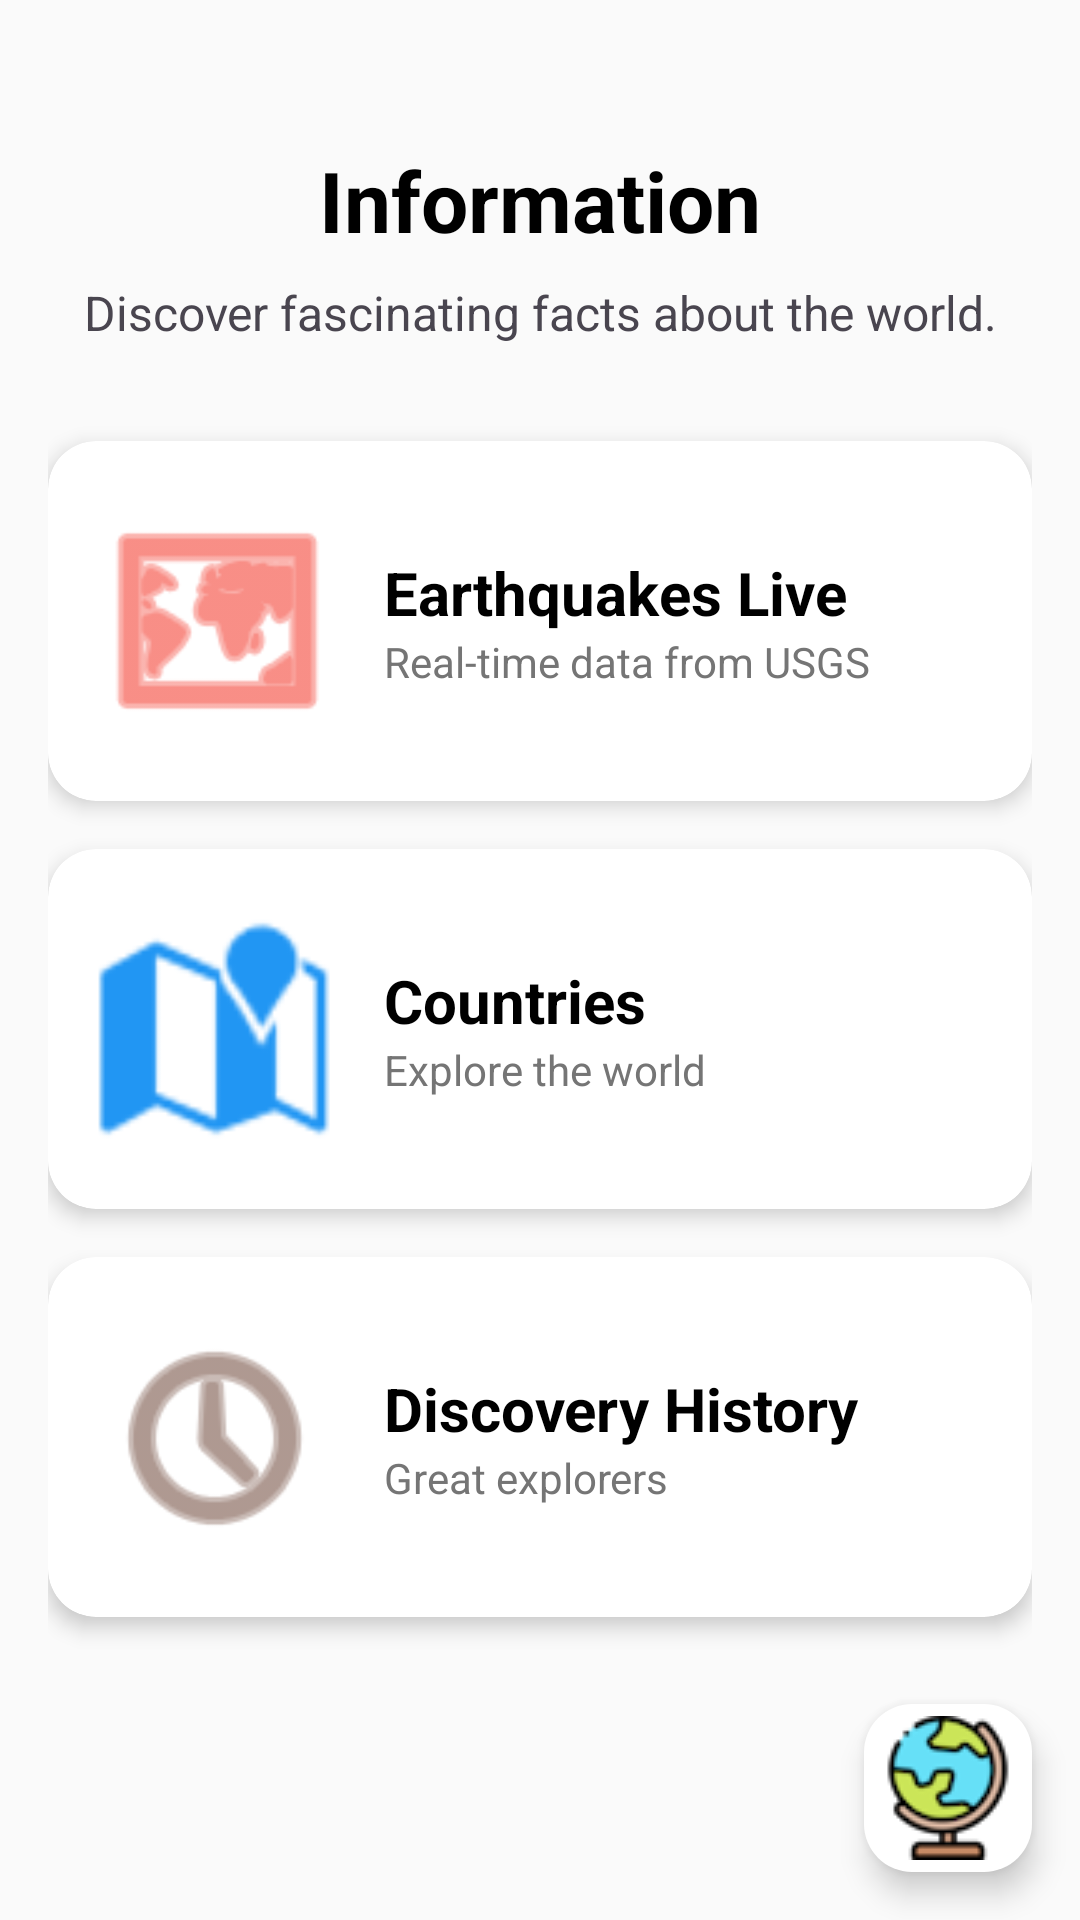

Named icons in this screenshot (1080px×1920px) and their bounding boxes, (x1, y1, x2, y2):
globus: (887, 1716, 1009, 1860)
map: (99, 923, 329, 1135)
mapmode: (117, 533, 317, 709)
recent history: (128, 1351, 302, 1525)
